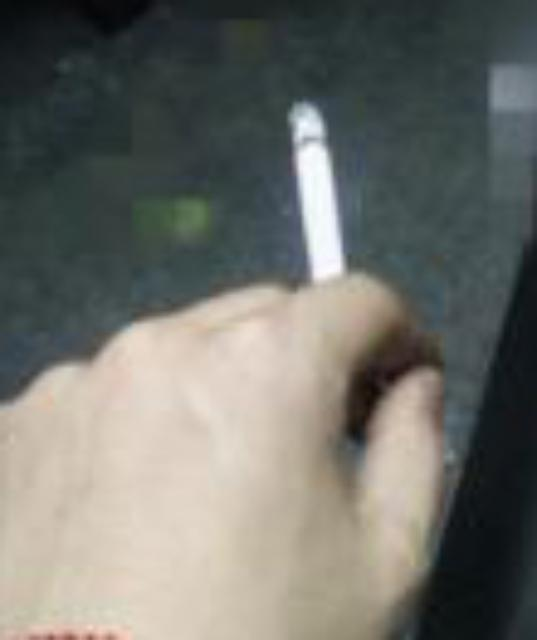Smoking: (286, 98, 360, 342)
